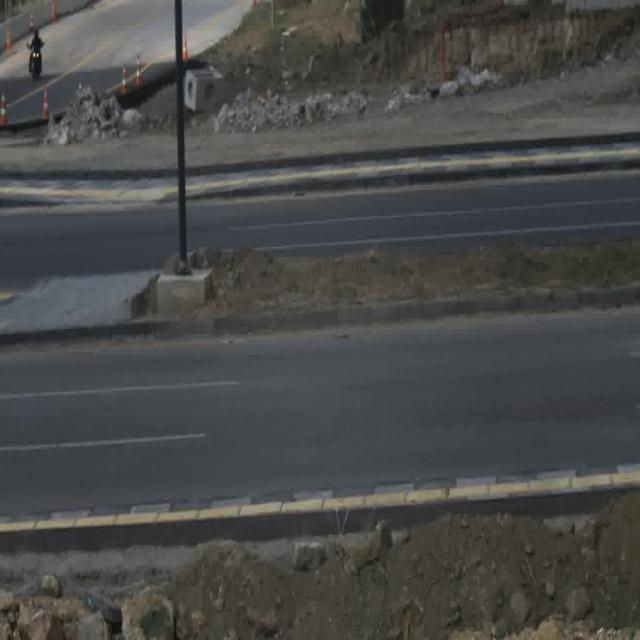Motorcycle: (27, 28, 46, 82)
